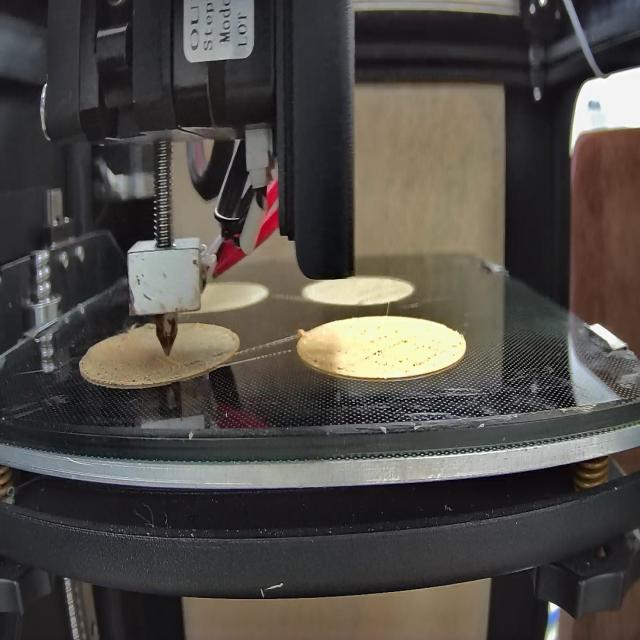under_extrusion: (366, 329, 458, 373), (94, 363, 153, 392), (183, 346, 234, 374), (311, 352, 349, 377)
